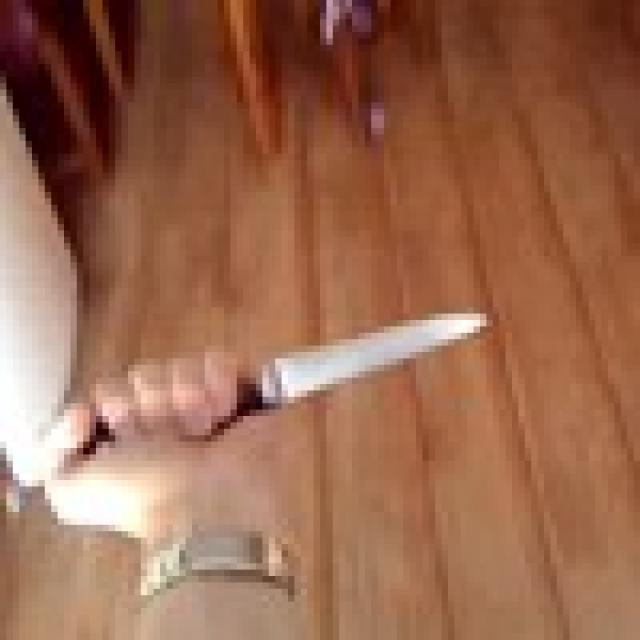Knife: (154, 314, 499, 448)
